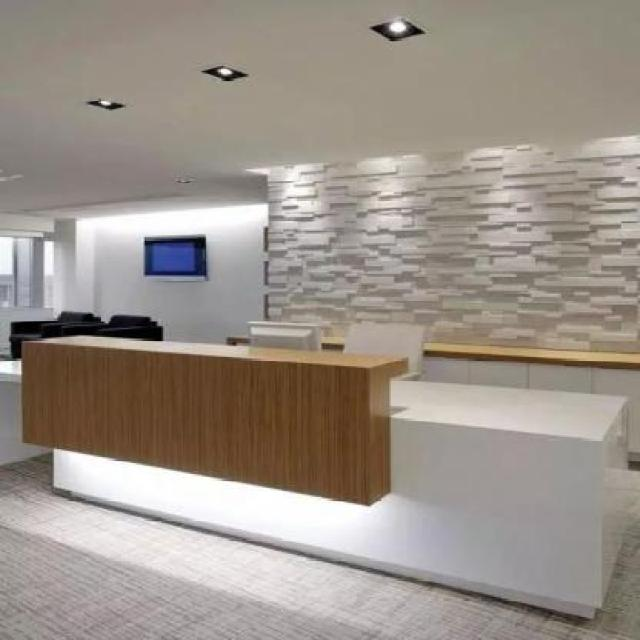frontdesk: (0, 317, 640, 618)
